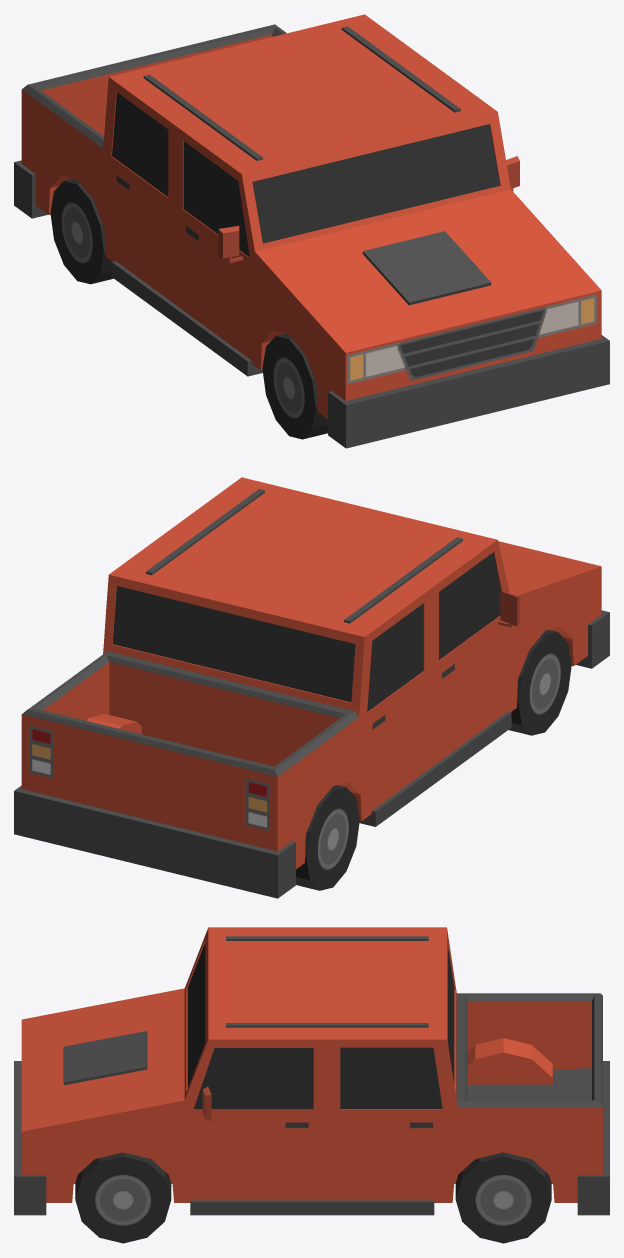
File: vehicle-pick-up-truck-color01.glb
3 views of the same model, one above another, from view 1: azimuth 30°, elevation 25°; view 2: azimuth 150°, elevation 25°; view 3: azimuth 270°, elevation 25° (orthographic). The views are drawn at different scales.
Parts seen in each view (by area): view 1: model; view 2: model; view 3: model.
Boxes of the visible parts, <box> form: model: <box>14,14,609,448</box>; model: <box>14,477,609,898</box>; model: <box>14,927,609,1243</box>.
Bounding box in the file's own units: 3.1 × 2.27 × 5.97.
Materials: 1 (1 with a texture image).
